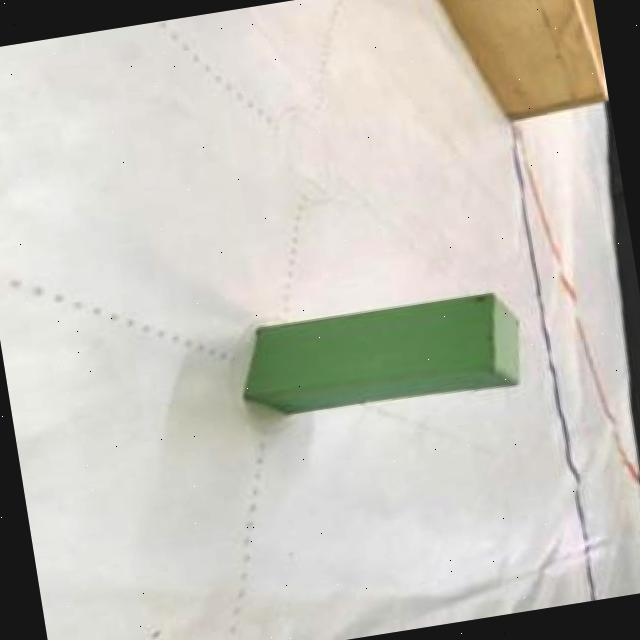greenbox: (232, 286, 530, 430)
